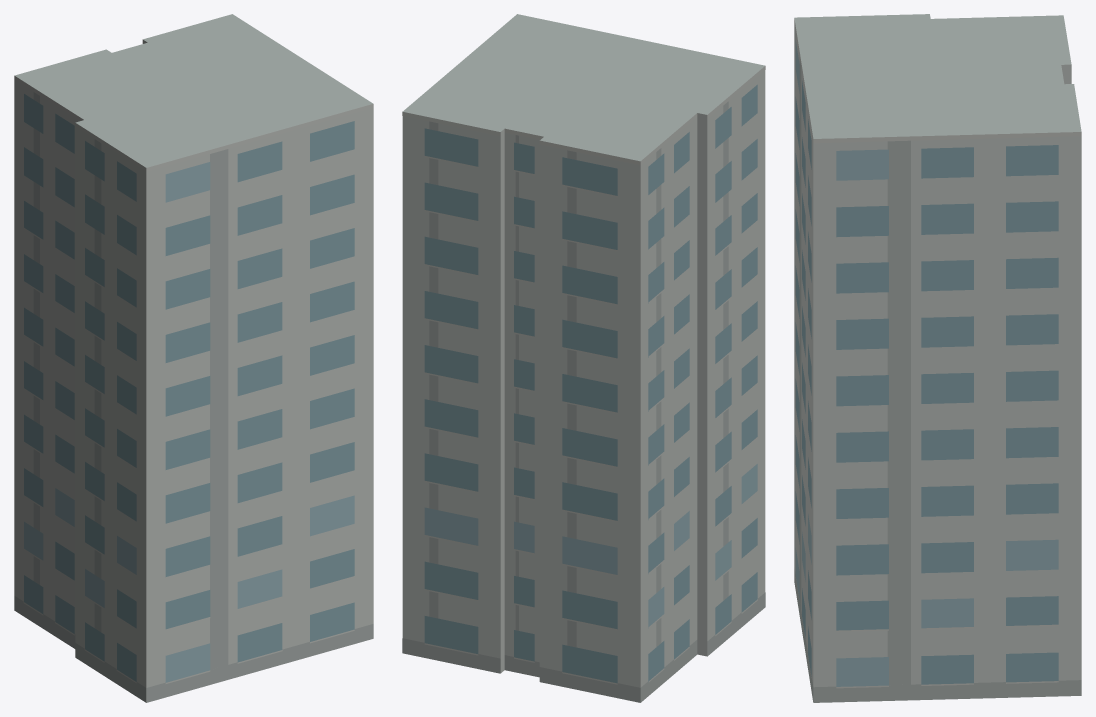
The model's file is survey-upis-32733488.glb.
3 views of the same model, side by side, from view 1: azimuth 30°, elevation 25°; view 2: azimuth 150°, elevation 25°; view 3: azimuth 270°, elevation 25° (orthographic). The views are drawn at different scales.
Visible parts, largest first — view 1: survey-upis-32733488.tmp; view 2: survey-upis-32733488.tmp; view 3: survey-upis-32733488.tmp.
Part boxes in pixels (x1,y1,x2,y2): survey-upis-32733488.tmp: [14, 14, 373, 702]; survey-upis-32733488.tmp: [402, 14, 765, 702]; survey-upis-32733488.tmp: [794, 14, 1081, 702].
Bounding box in the file's own units: 15.22 × 32 × 14.78.
